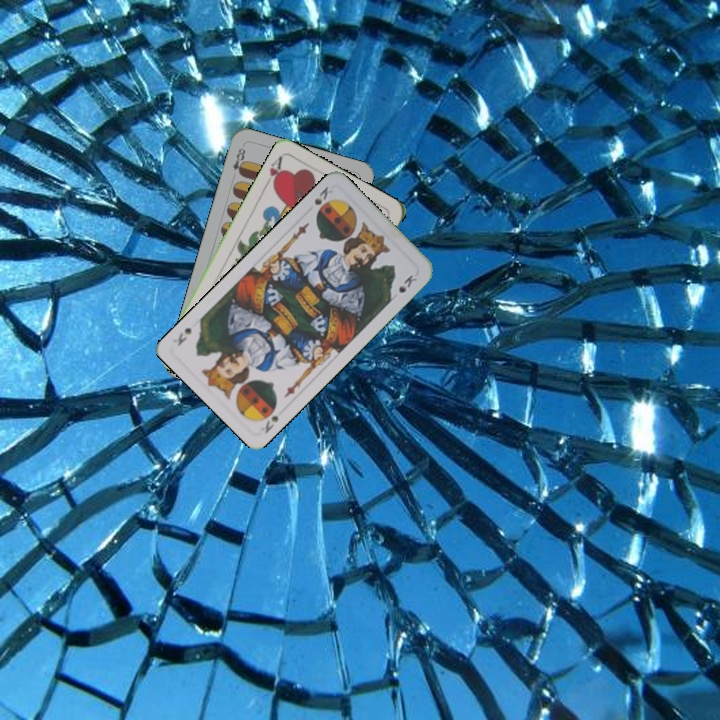E8: (228, 142, 248, 178)
HA: (261, 151, 286, 191)
SK: (257, 400, 281, 436), (310, 182, 335, 208)
